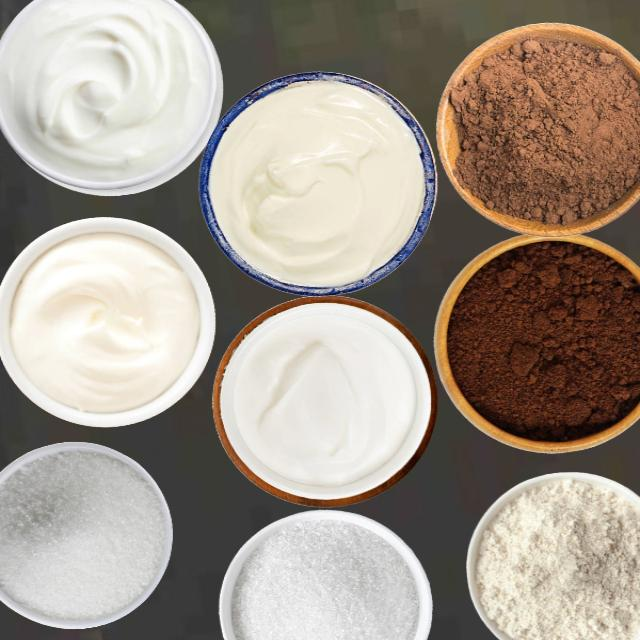Cocoa: (446, 27, 639, 226)
Coffee: (444, 239, 639, 442)
Flour: (475, 477, 639, 639)
Sugar: (0, 449, 167, 621), (231, 518, 419, 639)
